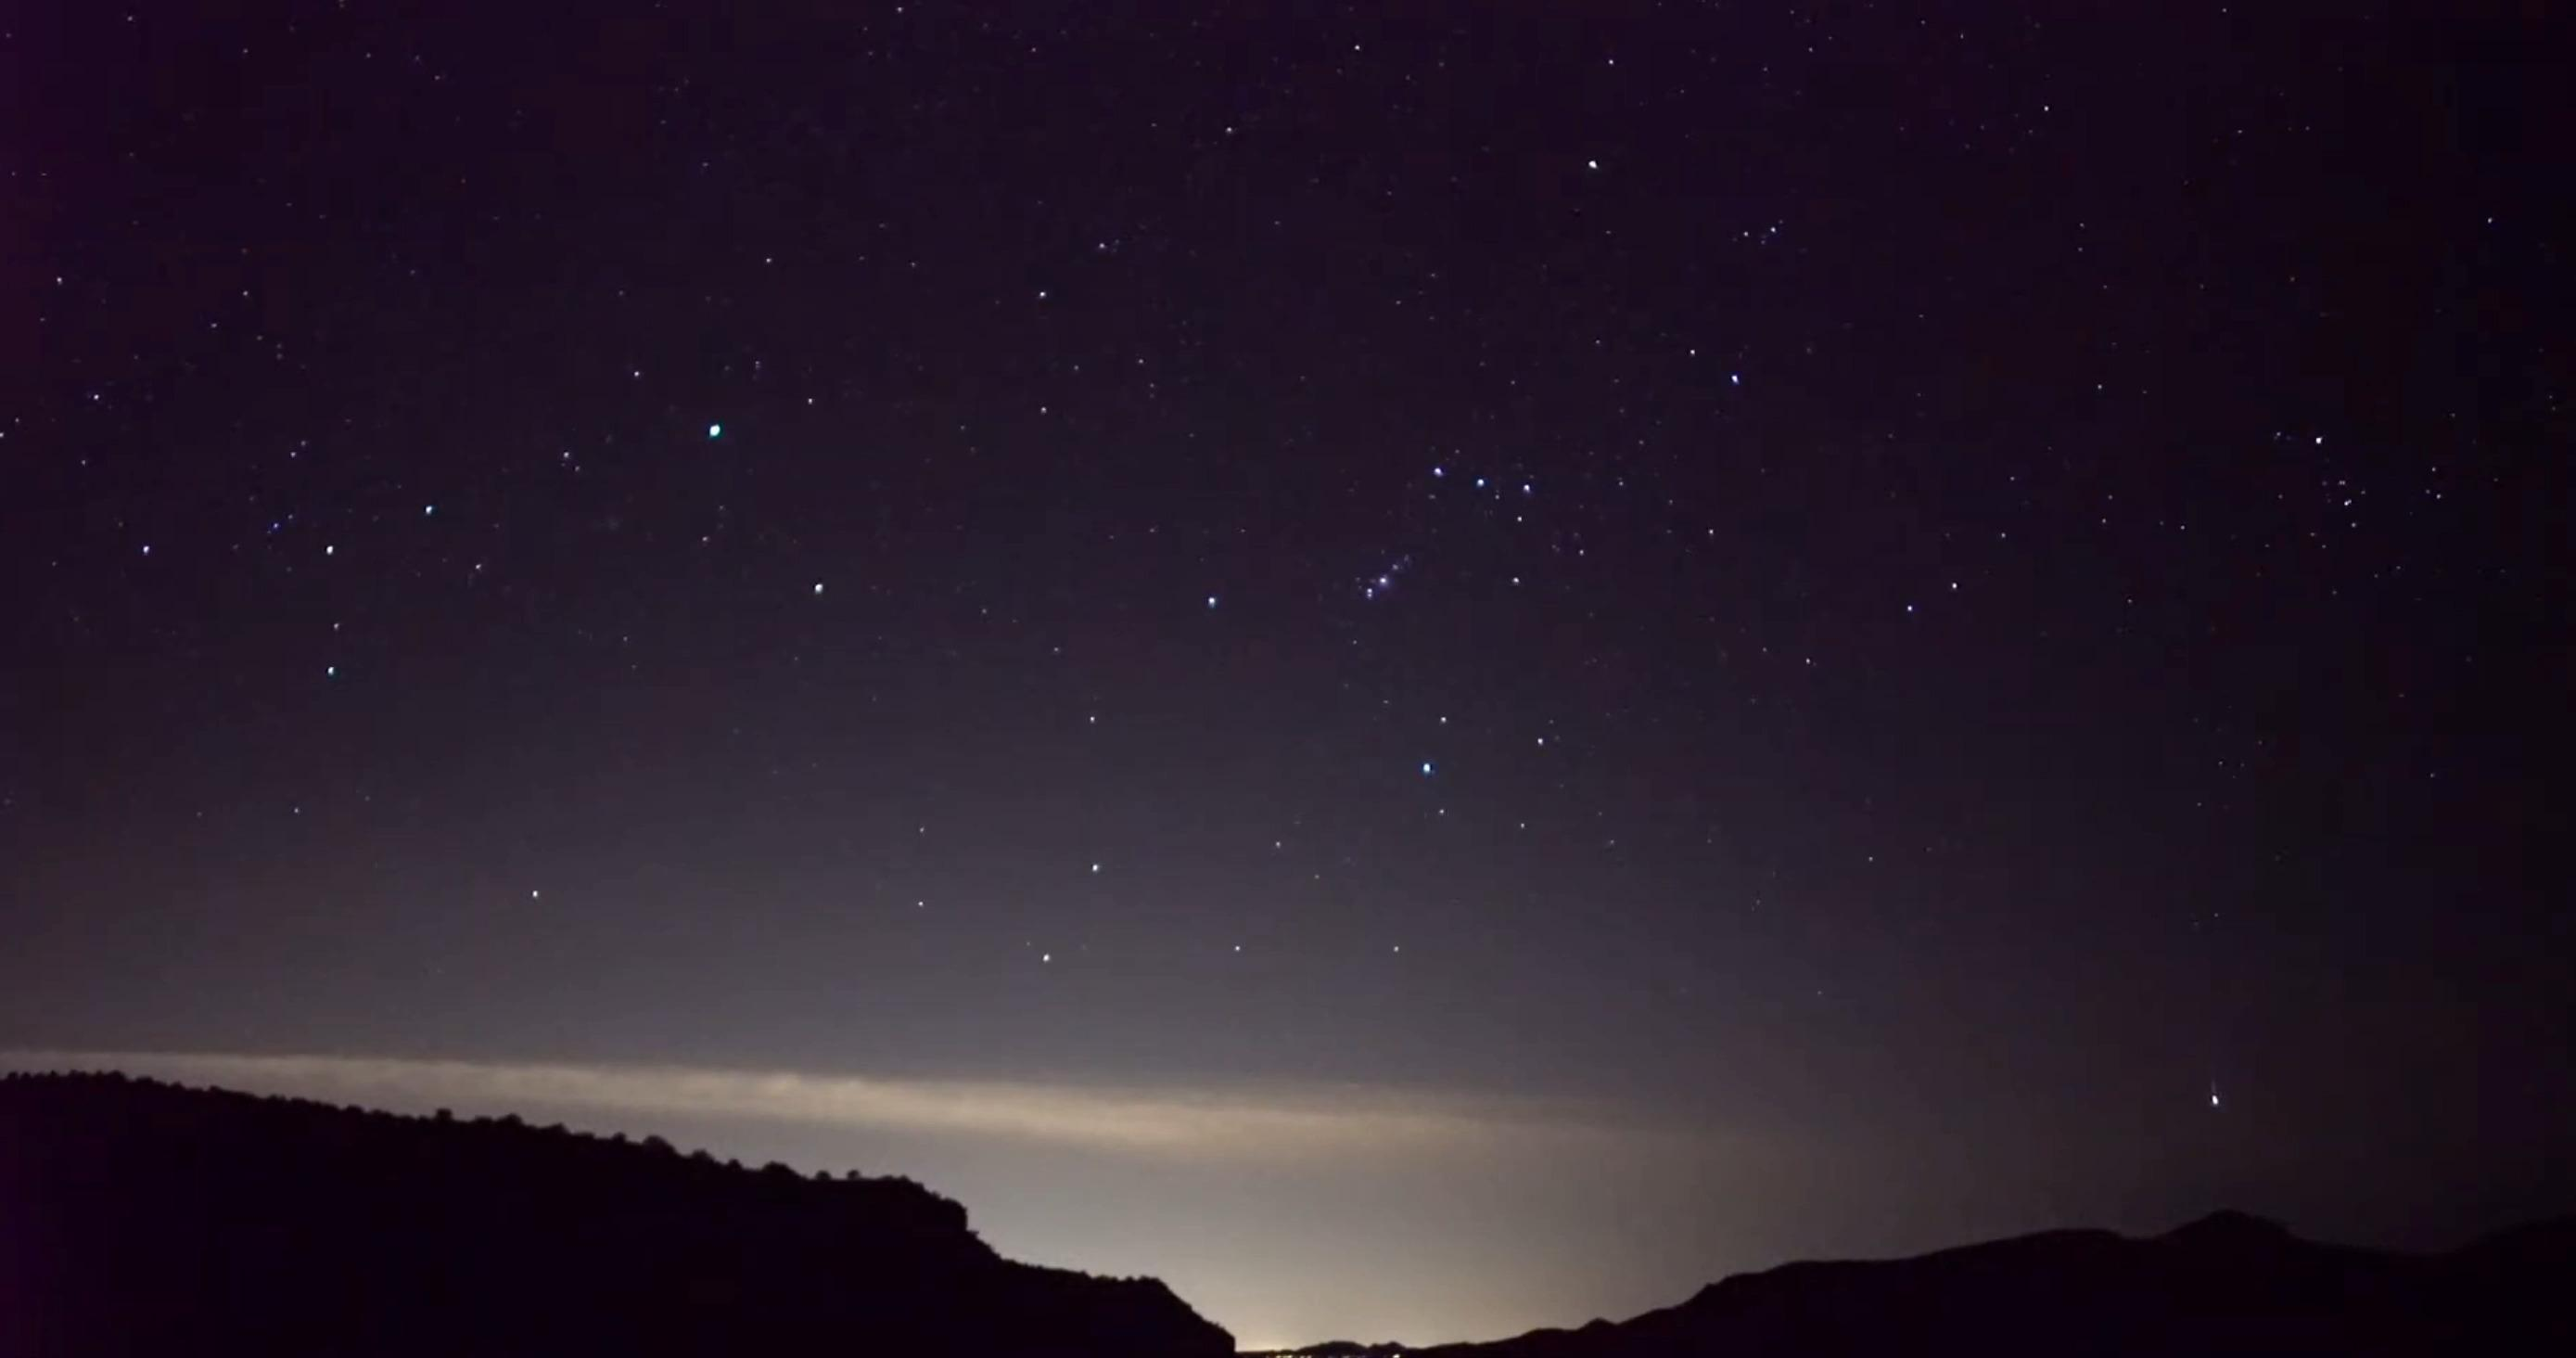meteorite: (2181, 1038, 2247, 1125)
